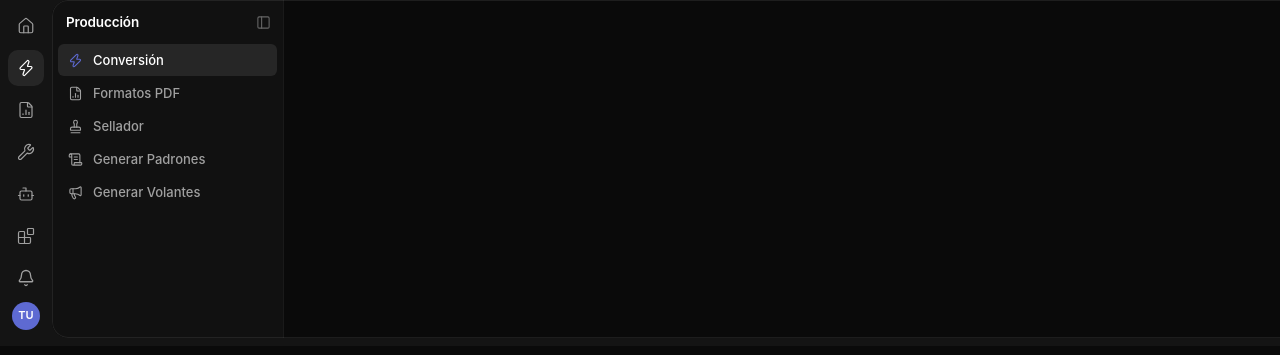
Test: Sidebar › shows group name tooltips on the rail
This screenshot has width=1280, height=355.
Focus the button named "Reportes" at coordinates (26, 110), box [8,92,44,128]
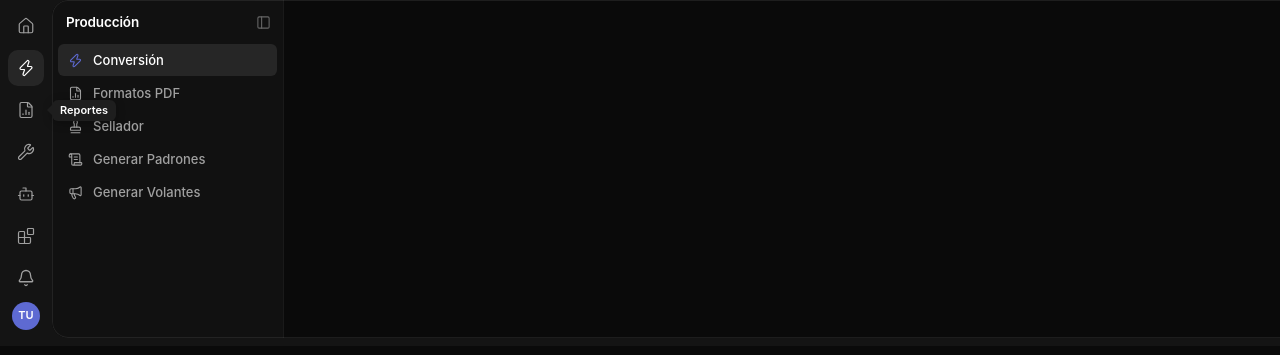
expect the tooltip reads "Reportes": met, box [60,102,108,116]
